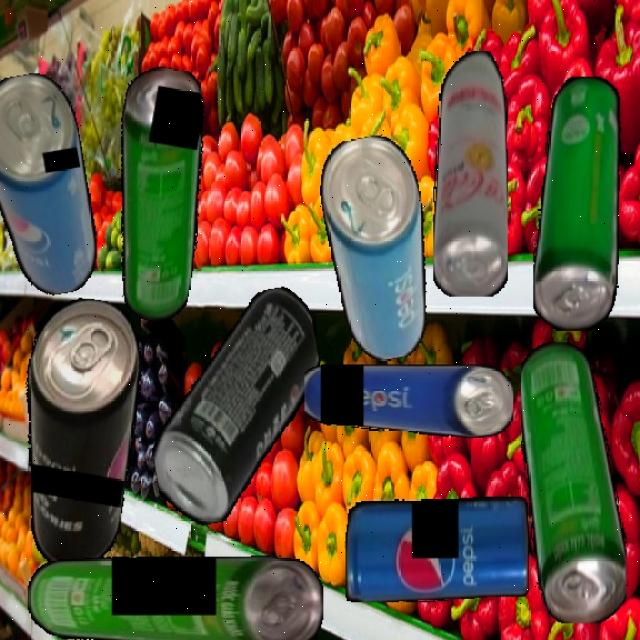debris: (129, 283, 343, 531), (0, 291, 157, 573), (89, 62, 225, 326), (312, 130, 447, 366), (519, 341, 627, 623), (26, 555, 323, 640), (0, 68, 106, 302), (532, 76, 622, 330), (344, 496, 529, 602), (432, 49, 508, 297), (304, 364, 514, 438)
